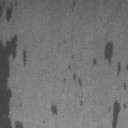red iron: (0, 34, 27, 128), (94, 42, 128, 90), (108, 101, 126, 128), (0, 0, 18, 22), (68, 64, 82, 86), (51, 104, 58, 114), (71, 0, 76, 11), (80, 100, 82, 107)
